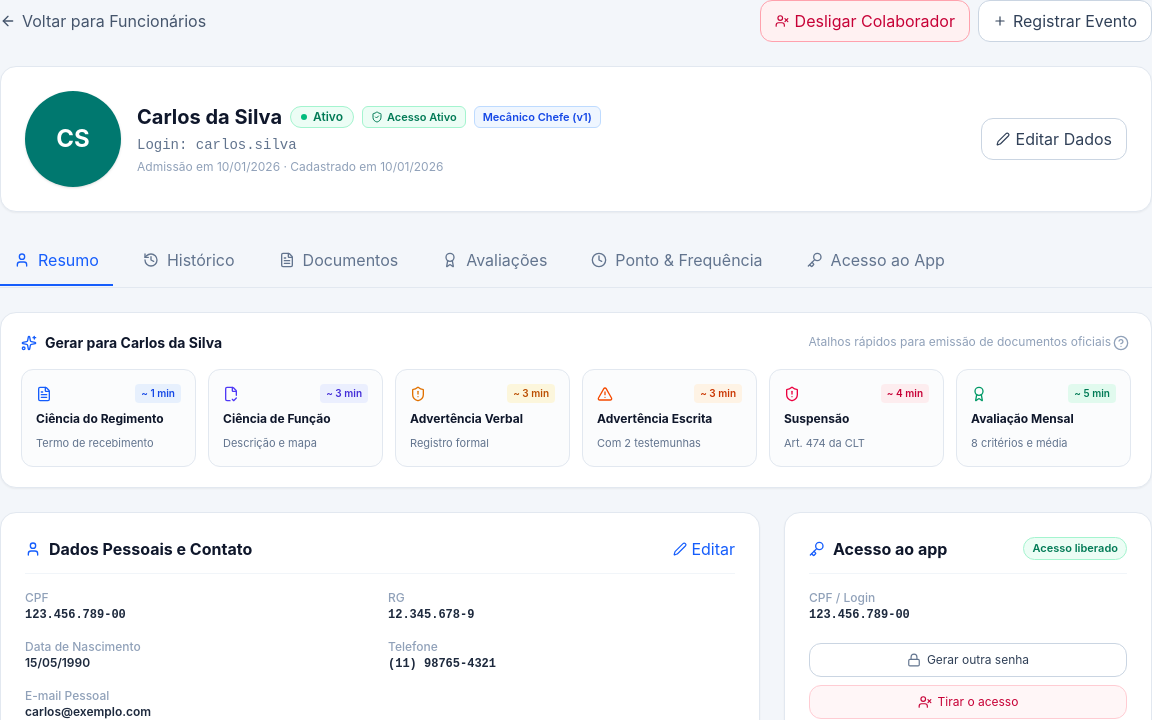
Test: AdminEmployeeDetailPage › opens termination modal when Desligar Colaborador button is clicked
Expected: the heading "Carlos da Silva" is shown, [137,103,282,131]
What coordinates should you click on to do the following:
click the button "Desligar Colaborador"
I would click on:
 (865, 21)
Its box is [760,0,970,42].
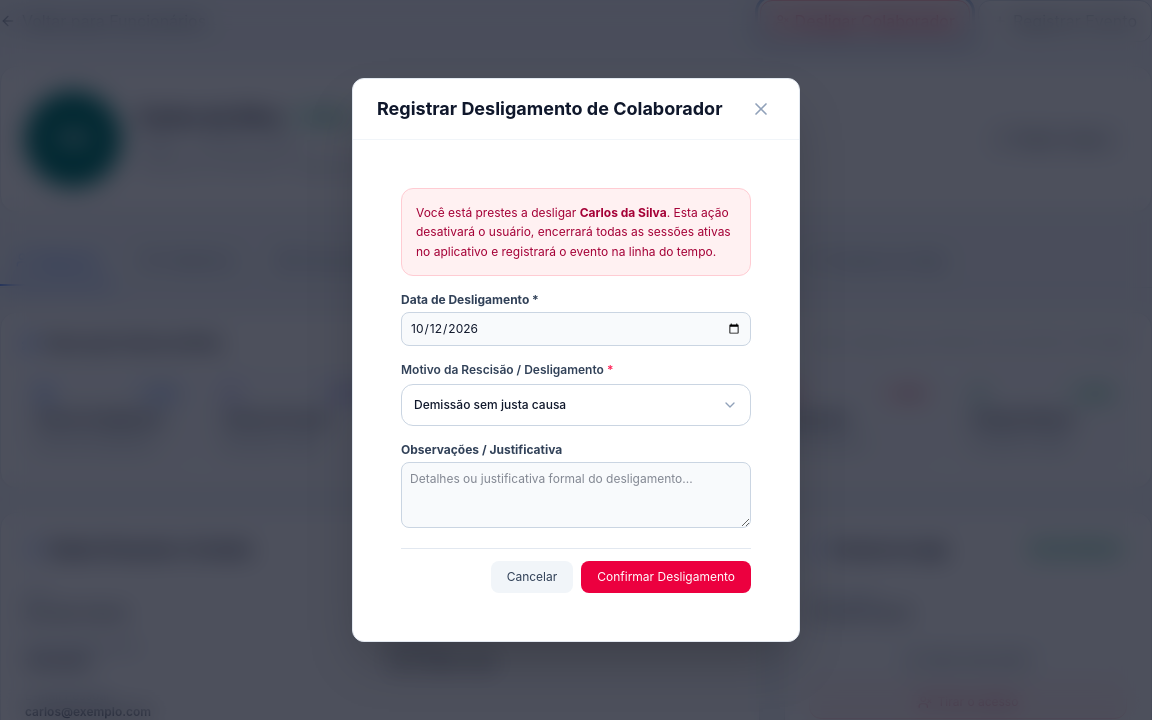
Expected: the heading "Registrar Desligamento de Colaborador" is shown, [377,95,722,123]
Expected: the text "Demissão sem justa causa" is shown, [414,397,566,412]
Expected: the button "Confirmar Desligamento" is shown, [581,561,751,593]
